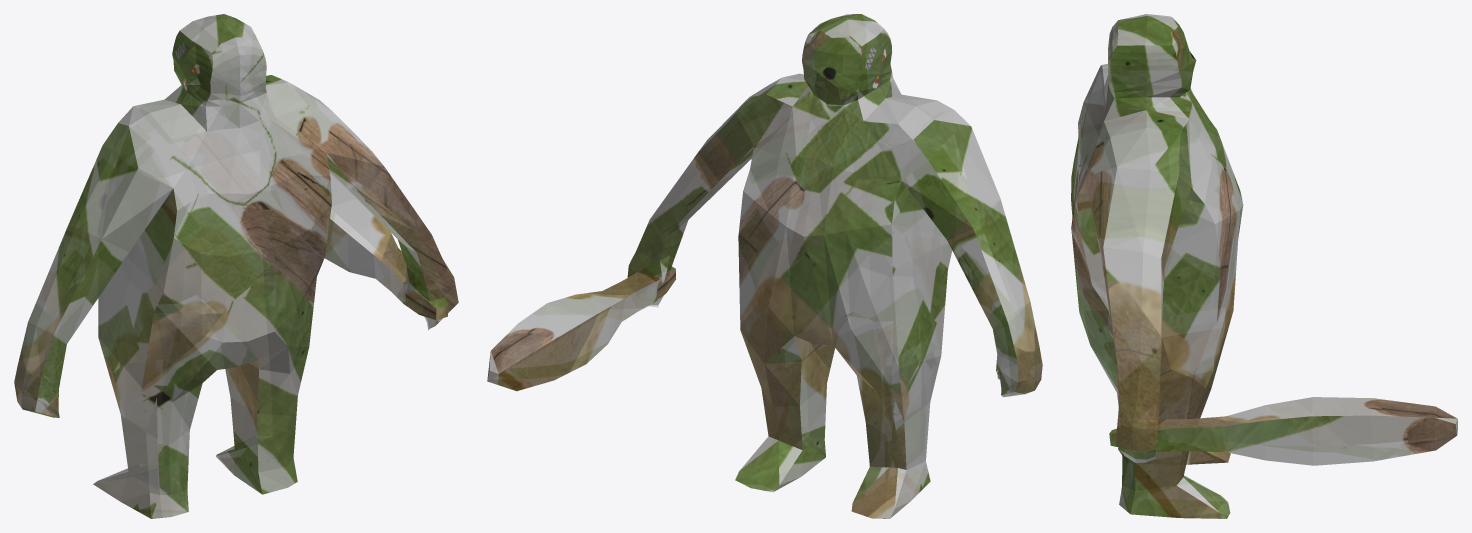
The model's file is Enemigo215.obj.
3 views of the same model, side by side, from view 1: azimuth 30°, elevation 25°; view 2: azimuth 150°, elevation 25°; view 3: azimuth 270°, elevation 25° (orthographic). The views are drawn at different scales.
Visible parts, largest first — view 1: Cube; view 2: Cube; view 3: Cube.
Boxes of the visible parts, box(x1,y1,x2,y2) form: Cube: box(14, 14, 458, 518); Cube: box(487, 14, 1042, 518); Cube: box(1071, 14, 1457, 518).
Size of the model in its own units: 2.55 by 2.71 by 2.02.
Materials: 1 (1 with a texture image).
